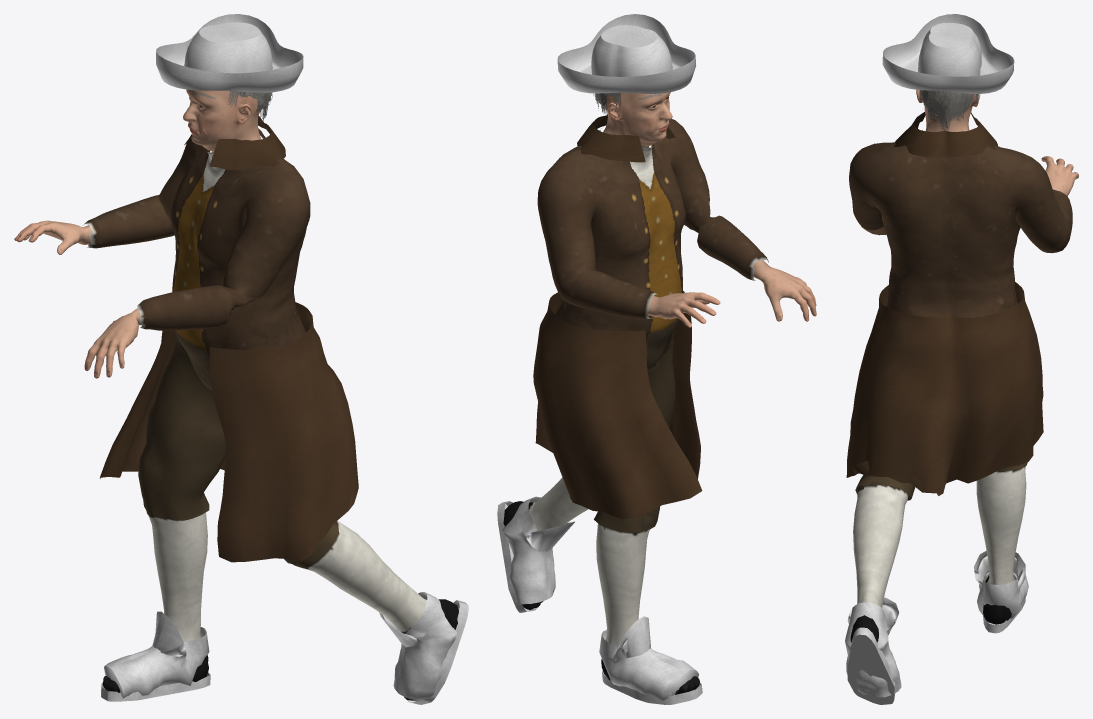
File: SM_Art_Person_merchant.gltf
3 renders of one model, left to right at view 1: azimuth 30°, elevation 25°; view 2: azimuth 150°, elevation 25°; view 3: azimuth 270°, elevation 25°, orthographic. The views are drawn at different scales.
Parts seen in each view (by area): view 1: SM_Art_Person_merchant; view 2: SM_Art_Person_merchant; view 3: SM_Art_Person_merchant.
Boxes of the visible parts, left/top/right/bottom form: SM_Art_Person_merchant: left=14, top=14, right=468, bottom=704; SM_Art_Person_merchant: left=497, top=14, right=816, bottom=704; SM_Art_Person_merchant: left=845, top=14, right=1078, bottom=704.
Size of the model in its own units: 0.9937 by 1.82 by 0.6348.
Materials: 15 (15 with a texture image).
